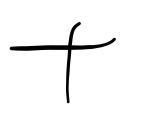plus: (10, 22, 116, 103)
